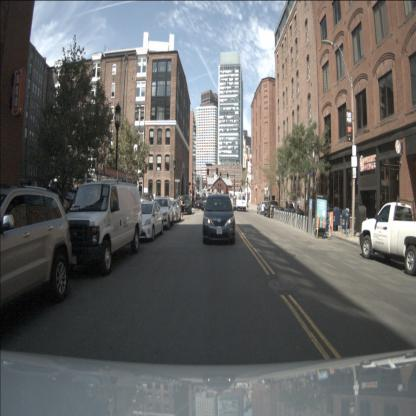human-pedestrian-adult: (181, 196, 185, 220), (297, 198, 302, 216), (292, 199, 295, 216), (285, 198, 288, 215)
vehicle-car: (0, 185, 72, 308), (63, 181, 142, 276), (360, 201, 416, 276), (202, 194, 236, 244), (132, 200, 164, 240), (152, 197, 174, 229), (167, 198, 181, 223), (179, 194, 192, 214), (264, 200, 278, 218), (236, 194, 247, 211), (257, 202, 267, 214), (195, 196, 203, 209)
